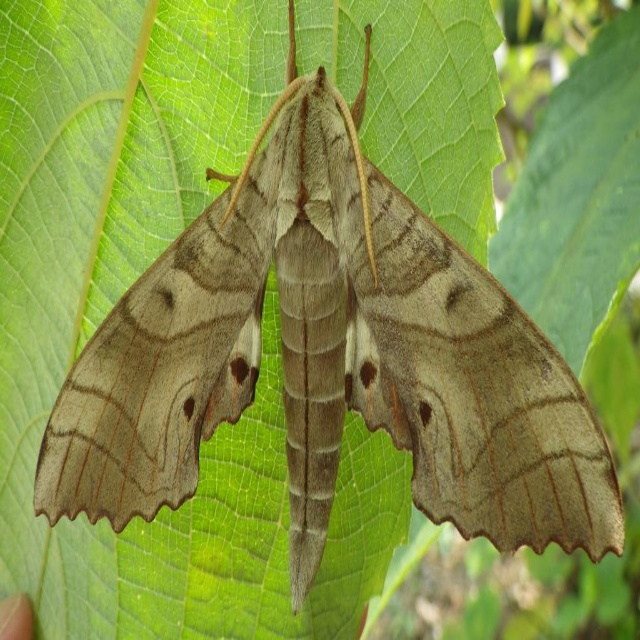Moths and butterflies: (32, 0, 627, 619)
